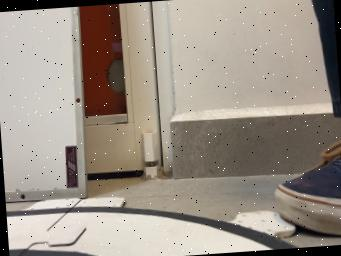street: (6, 207, 293, 256)
